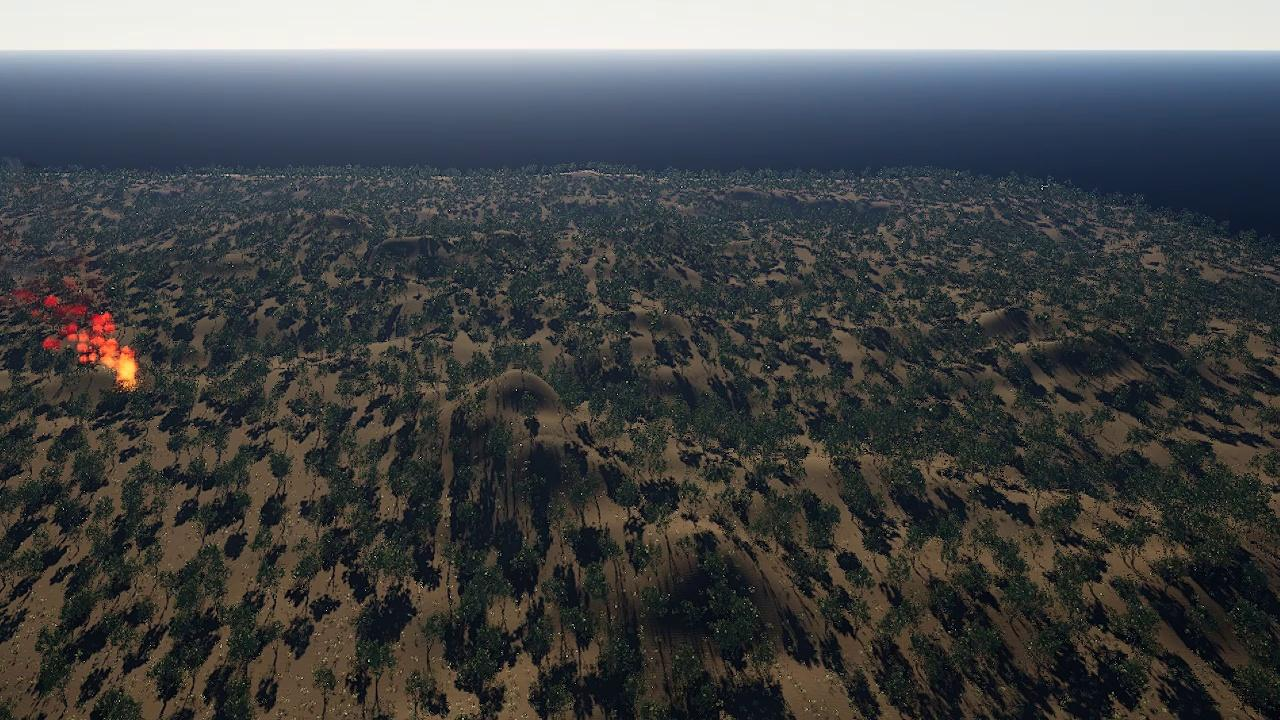fire: (117, 352, 140, 386)
smoke: (1, 272, 133, 374)
